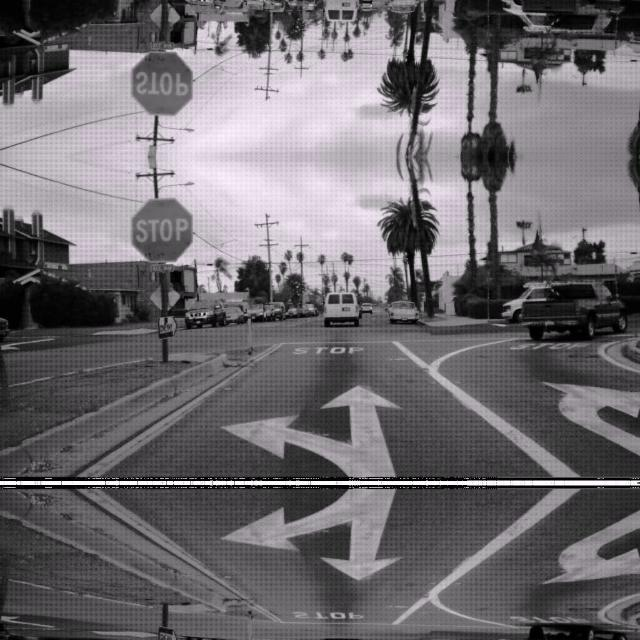stop: (130, 196, 192, 260), (130, 52, 192, 116)
